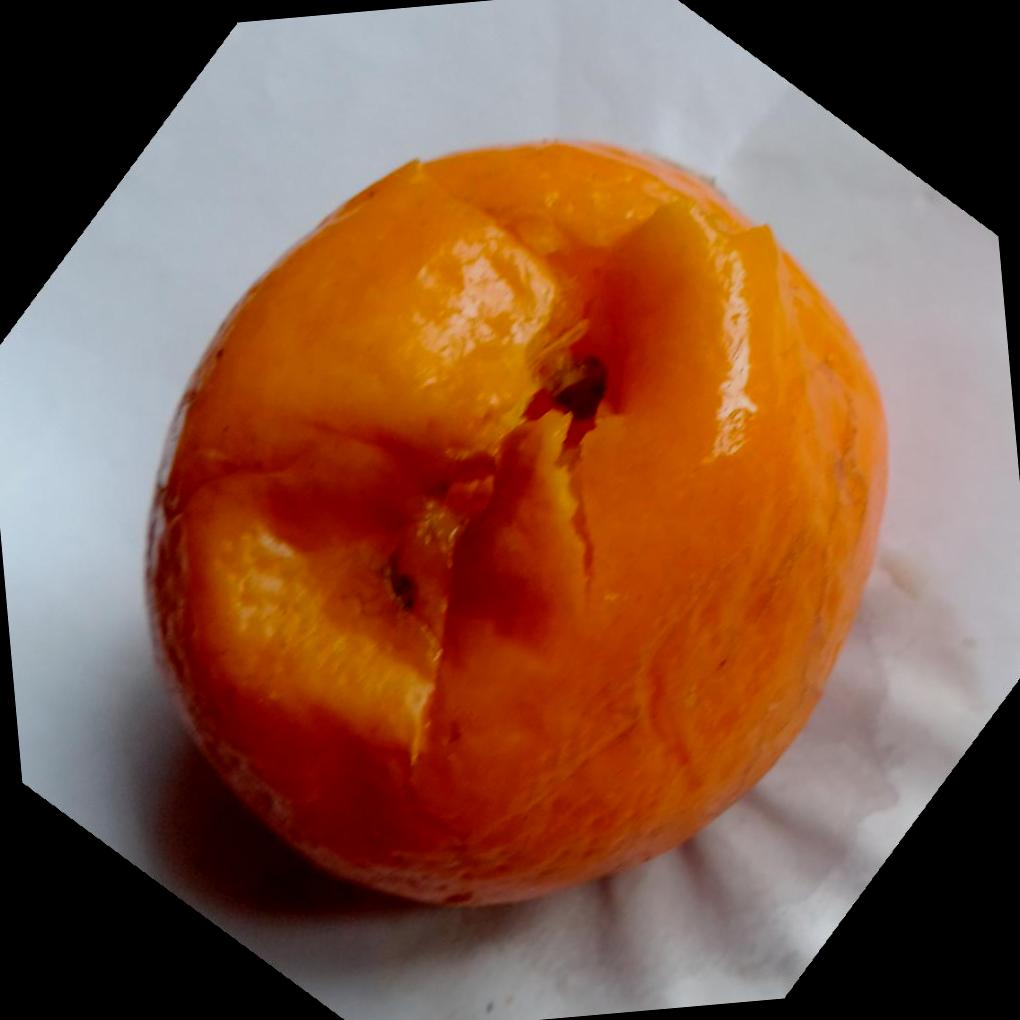FreshOrange: (141, 142, 890, 913)
